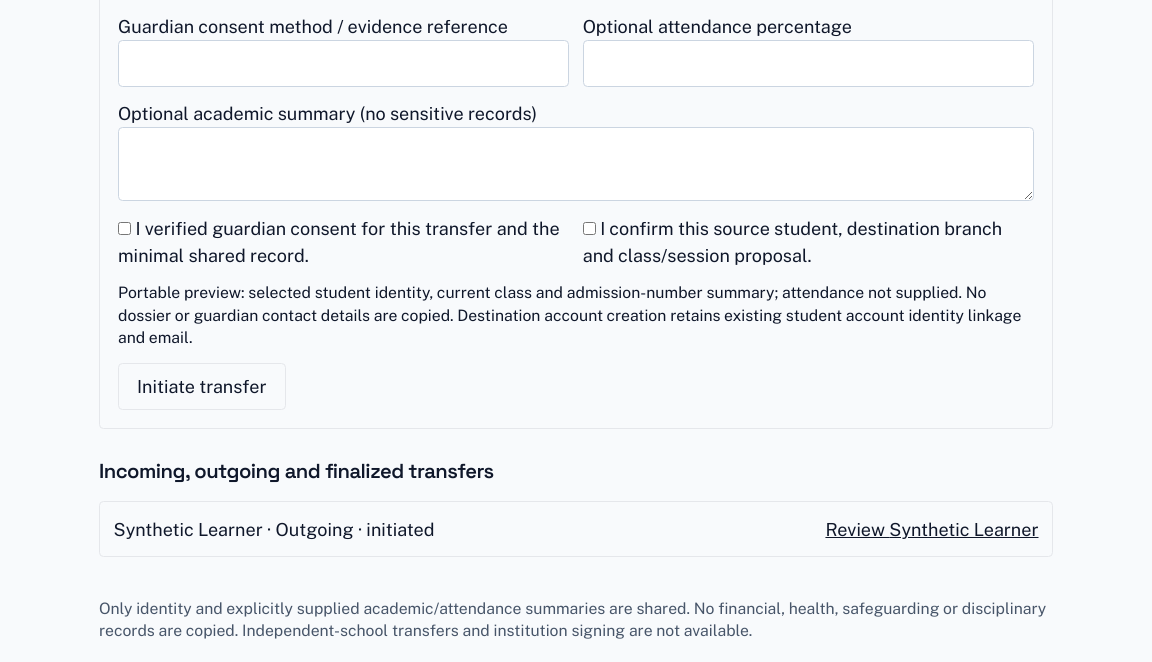
Test: shows source release and cancel, not acceptance, with guarded review navigation
(page scrolled)
Click the button "Review Synthetic Learner": (932, 529) 825,516 -> 1038,542
(page scrolled)
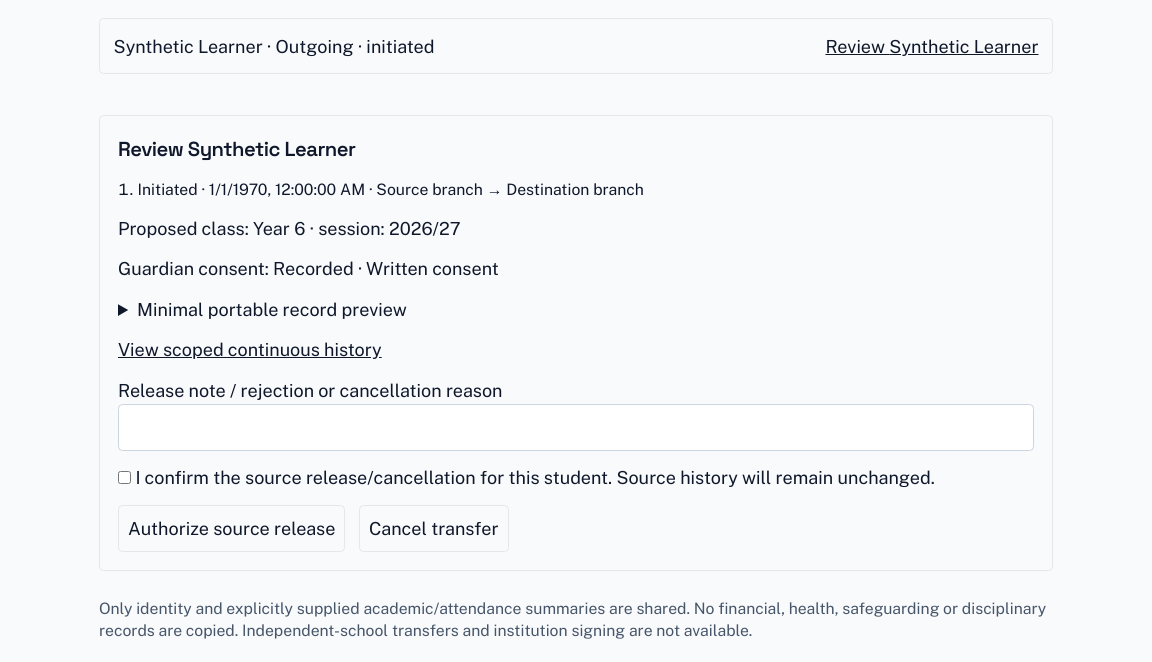
Expected: the button "Authorize source release" is shown, 118,504 -> 345,552
Expected: the button "Cancel transfer" is shown, 359,504 -> 509,552
Click the checkbox labelled "I confirm the source": (124, 478) 118,471 -> 131,484
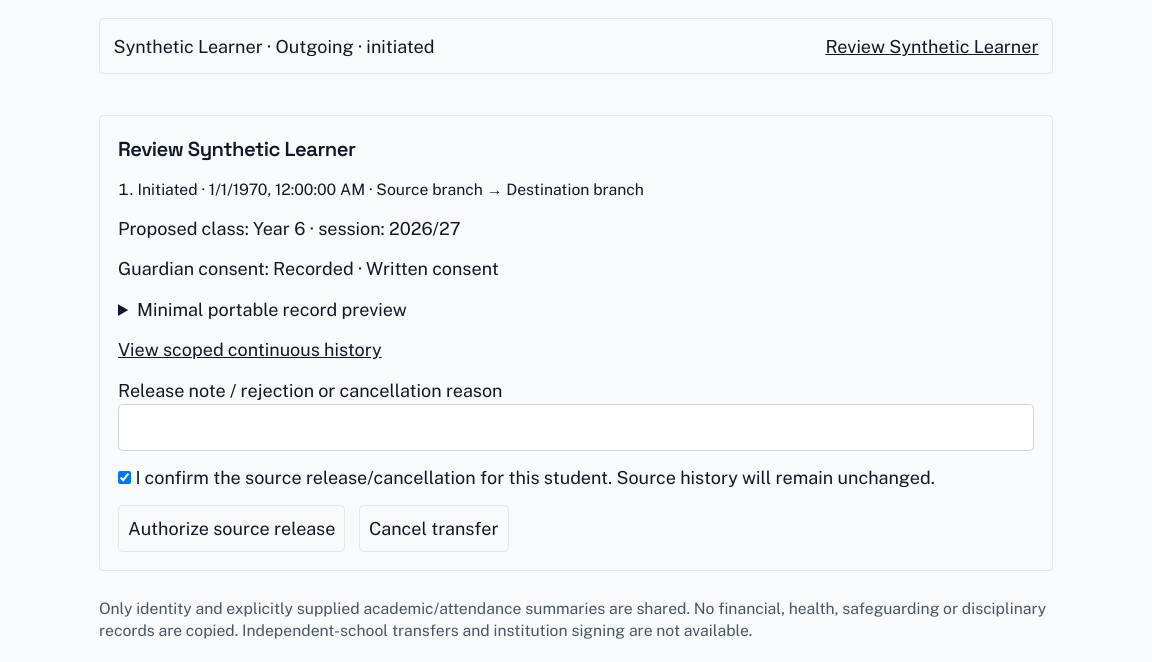
Click the button "Authorize source release": (232, 528) 118,504 -> 345,552
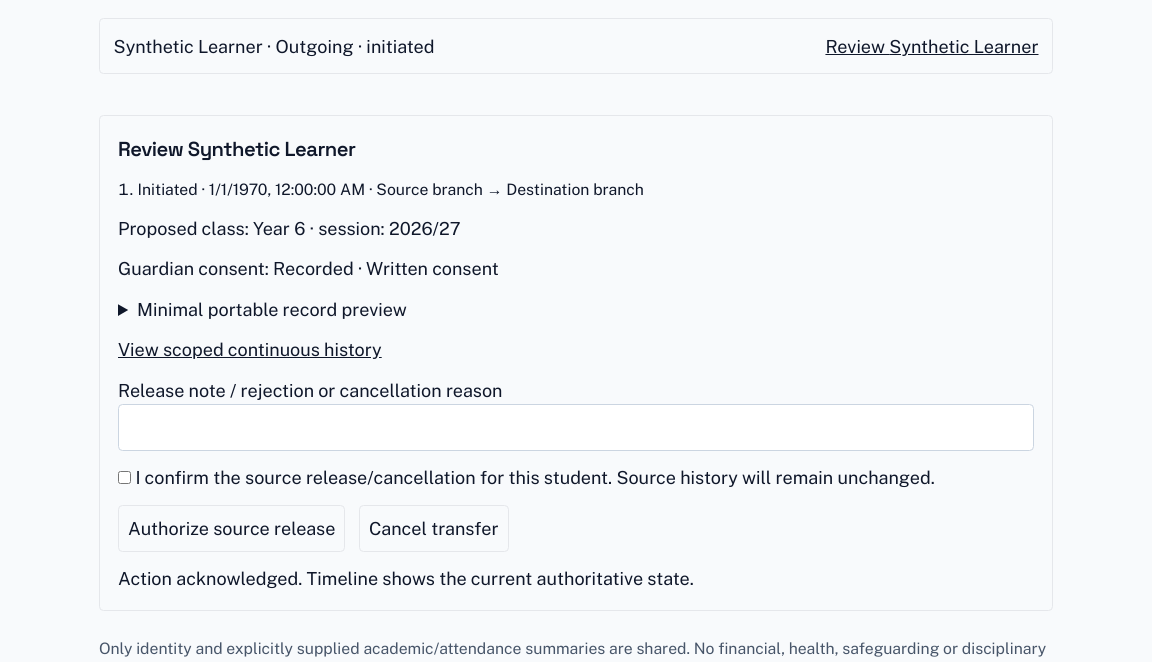
Click the button "View scoped continuous history": (250, 350) 118,336 -> 382,363
(page scrolled)
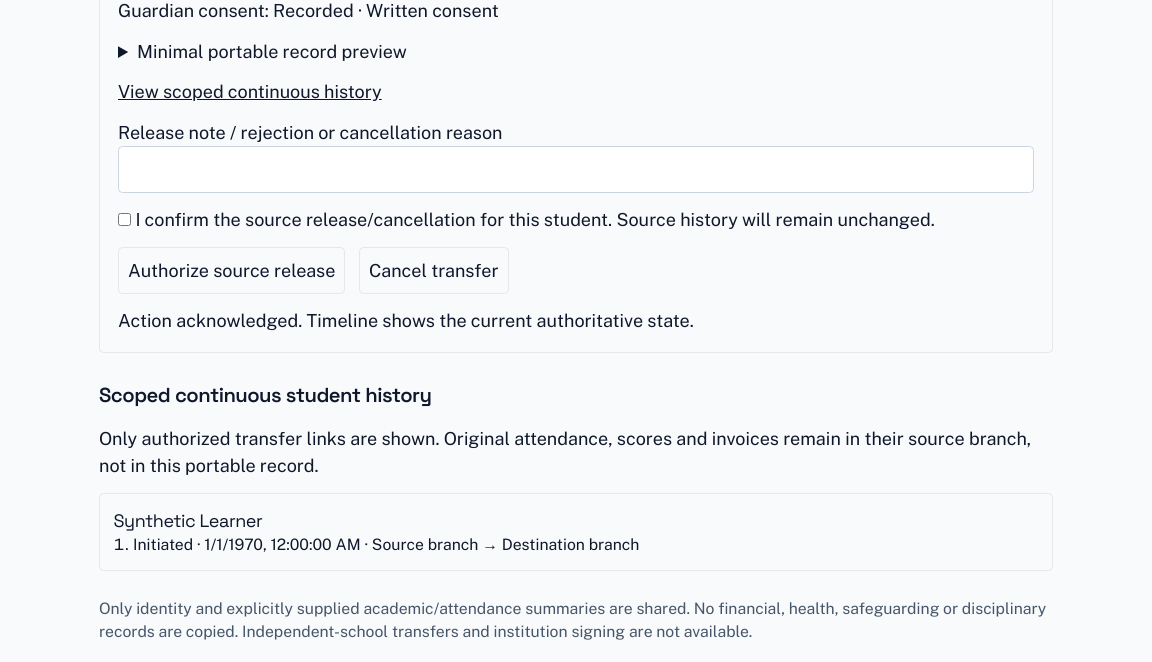
Expected: the element "Scoped continuous student history" is shown, 99,380 -> 1053,571
